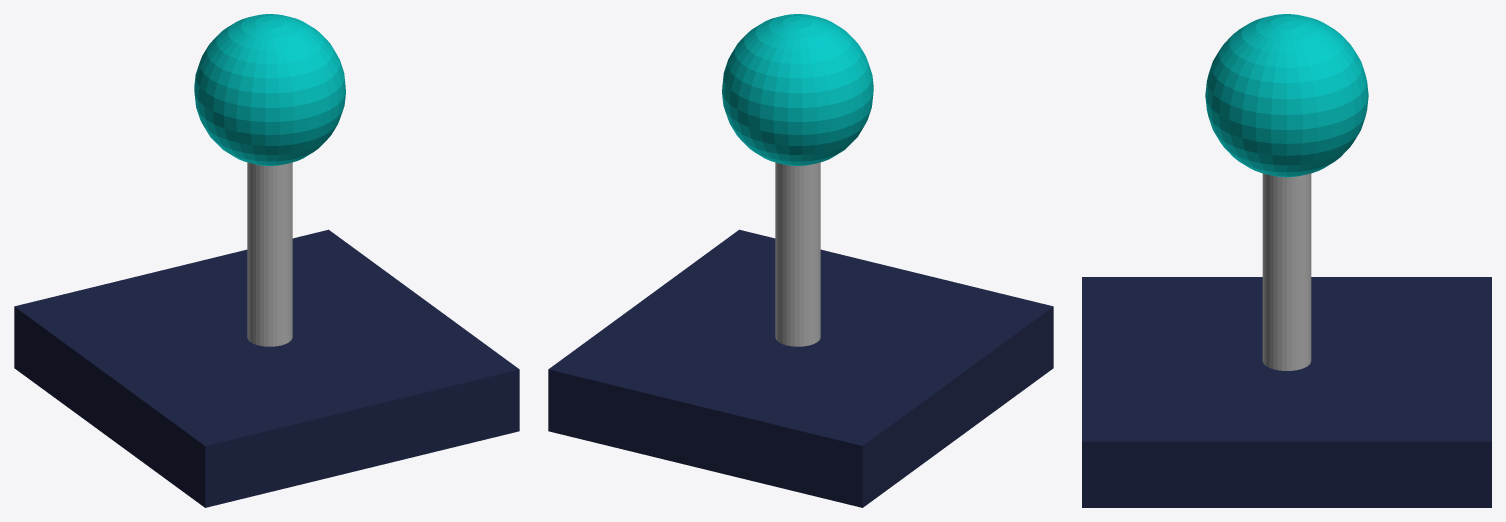
The model's file is turret1.fbx.
The picture shows the model from 3 angles, left to right: view 1: azimuth 30°, elevation 25°; view 2: azimuth 150°, elevation 25°; view 3: azimuth 270°, elevation 25°; orthographic projection. The views are drawn at different scales.
Parts seen in each view (by area): view 1: Sphere.002, Sphere.001, Sphere; view 2: Sphere.002, Sphere.001, Sphere; view 3: Sphere.002, Sphere.001, Sphere.
Part boxes in pixels (<box>): Sphere.002: <box>14,229,519,507</box>; Sphere.001: <box>194,14,345,165</box>; Sphere: <box>247,162,292,346</box>; Sphere.002: <box>548,229,1053,507</box>; Sphere.001: <box>722,14,873,165</box>; Sphere: <box>775,162,820,346</box>; Sphere.002: <box>1082,277,1491,507</box>; Sphere.001: <box>1205,14,1368,177</box>; Sphere: <box>1262,173,1311,370</box>.
Bounding box in the file's own units: 38.17 × 43.84 × 40.14.
